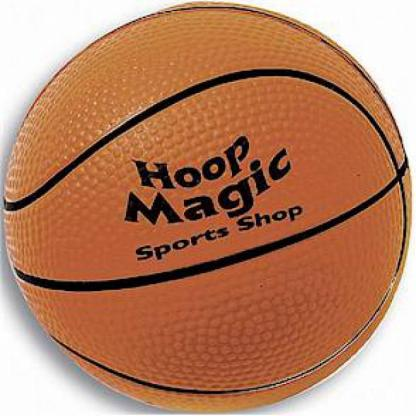basketball: (0, 0, 409, 412)
